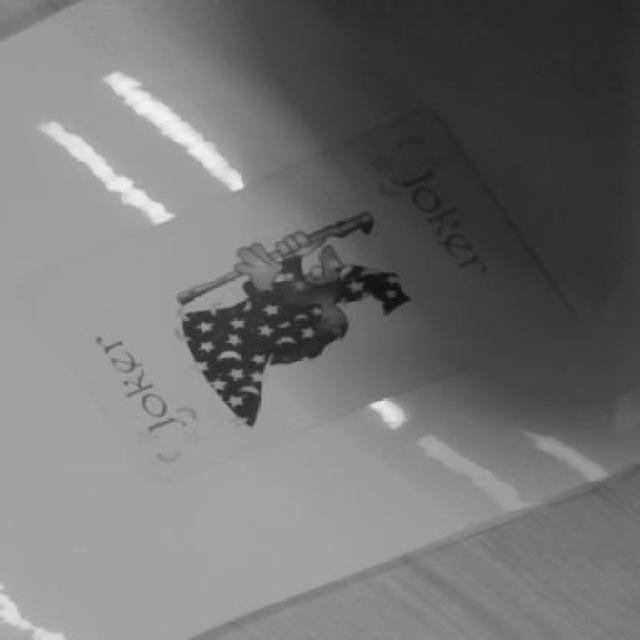BLACK JOKER: (348, 145, 550, 324), (74, 316, 215, 472)
